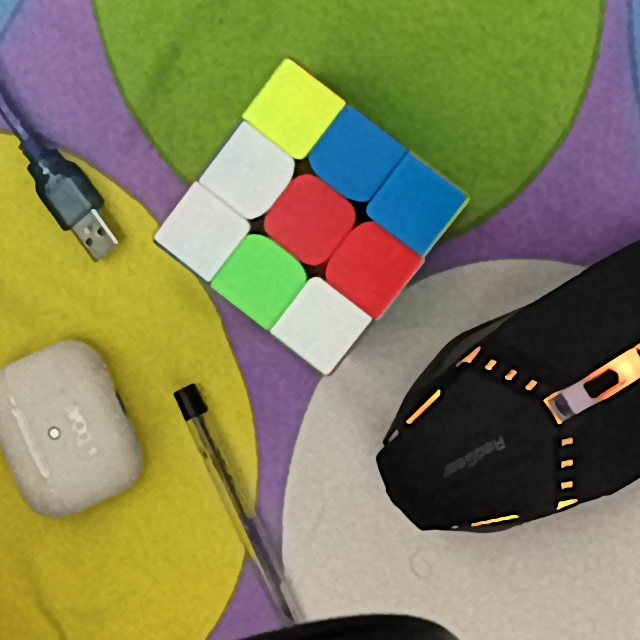tile: (390, 179, 444, 229), (348, 242, 400, 293), (285, 194, 337, 245), (221, 150, 276, 198), (329, 134, 380, 185), (236, 255, 285, 307), (268, 87, 319, 136), (296, 304, 345, 351), (180, 208, 226, 256)
